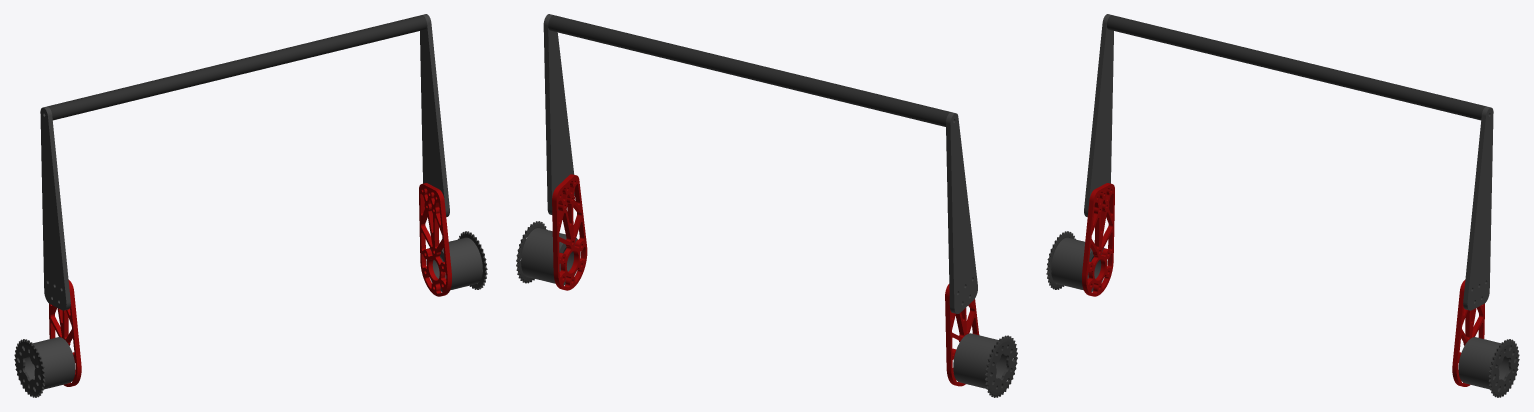
3 renders of one model, left to right at view 1: azimuth 30°, elevation 25°; view 2: azimuth 150°, elevation 25°; view 3: azimuth 330°, elevation 25°, orthographic. The views are drawn at different scales.
Visible parts, largest first — view 1: Part 29 (×2), 0.625" ID x 0.75" OD Aluminum Round Tube (21.625" L), Part 27 (×2), Part 28 (×2), 36t Aluminum Sprocket (#25, SplineXL Bore) (×2); view 2: Part 29 (×2), 0.625" ID x 0.75" OD Aluminum Round Tube (21.625" L), Part 27 (×2), Part 28 (×2), 36t Aluminum Sprocket (#25, SplineXL Bore) (×2); view 3: Part 29 (×2), 0.625" ID x 0.75" OD Aluminum Round Tube (21.625" L), Part 27 (×2), Part 28 (×2), 36t Aluminum Sprocket (#25, SplineXL Bore) (×2).
Boxes of the visible parts, x1,y1,x2,y2 form: Part 29 (×2): (40,14,449,310); 0.625" ID x 0.75" OD Aluminum Round Tube (21.625" L): (47,15,426,120); Part 27 (×2): (49,183,451,386); Part 28 (×2): (24,237,482,389); 36t Aluminum Sprocket (#25, SplineXL Bore) (×2): (14,231,487,397); Part 29 (×2): (543,14,977,313); 0.625" ID x 0.75" OD Aluminum Round Tube (21.625" L): (548,15,950,126); Part 27 (×2): (552,174,979,386); Part 28 (×2): (521,228,1012,388); 36t Aluminum Sprocket (#25, SplineXL Bore) (×2): (516,221,1017,397); Part 29 (×2): (1084,14,1493,310); 0.625" ID x 0.75" OD Aluminum Round Tube (21.625" L): (1107,15,1486,120); Part 27 (×2): (1082,183,1484,386); Part 28 (×2): (1051,237,1509,389); 36t Aluminum Sprocket (#25, SplineXL Bore) (×2): (1046,231,1519,397).
Size of the model in its own units: 0.6507 by 0.3773 by 0.0858.
